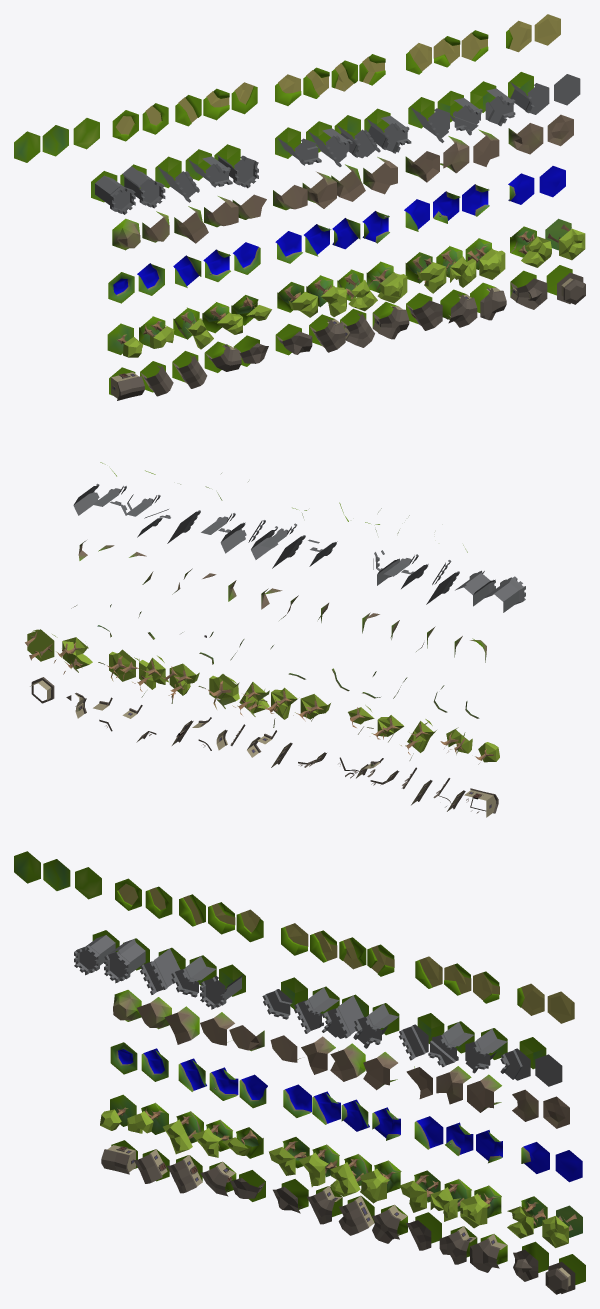
The model's file is Hex.gltf.
The picture shows the model from 3 angles, top to bottom: view 1: azimuth 30°, elevation 25°; view 2: azimuth 150°, elevation 25°; view 3: azimuth 330°, elevation 25°; orthographic projection. The views are drawn at different scales.
Visible parts, largest first — view 1: Wall_T4, Wall_Q3, Wall_N, Wall_F, Tree_F, Tree_T4, Wall_Q1, Wall_E, Wall_Q2, House_H, Tree_H, Wall_P2 (+75 smaller); view 2: Tree_T4, Wall_N, Wall_T4, Tree_H, Tree_F, Tree_Q3, Tree_Q1, Tree_Q2, Wall_E, Tree_T3, Tree_T2, Wall_T2 (+3 smaller); view 3: Wall_E, Wall_P3, Wall_T4, Wall_Q2, Wall_T3, Wall_Q3, Wall_P1, Tree_Q3, Wall_F, Wall_Q1, Tree_H, Tree_T4 (+73 smaller).
Boxes of the visible parts, box(x1,y1,x2,y2) form: Wall_T4: box(364, 108, 411, 153); Wall_Q3: box(470, 81, 515, 126); Wall_N: box(91, 171, 135, 214); Wall_F: box(508, 72, 549, 114); Tree_F: box(510, 226, 551, 267); Tree_T4: box(366, 261, 407, 303); Wall_Q1: box(408, 97, 449, 142); Wall_E: box(120, 164, 165, 208); Wall_Q2: box(437, 91, 482, 135); House_H: box(546, 265, 585, 304); Tree_H: box(545, 218, 585, 260); Wall_P2: box(185, 149, 232, 187); Tree_T4: box(198, 674, 239, 709); Wall_N: box(485, 576, 525, 612); Wall_T4: box(201, 513, 246, 553); Tree_H: box(25, 629, 57, 661); Tree_F: box(54, 637, 92, 674); Tree_Q3: box(98, 649, 139, 681); Tree_Q1: box(162, 663, 199, 703); Tree_Q2: box(128, 655, 168, 697); Wall_E: box(455, 570, 495, 606); Tree_T3: box(232, 682, 269, 716); Tree_T2: box(260, 687, 297, 727); Wall_T2: box(260, 523, 305, 568); Wall_E: box(104, 938, 149, 983); Wall_P3: box(200, 964, 245, 1009); Wall_T4: box(353, 1003, 399, 1048); Wall_Q2: box(428, 1021, 474, 1067); Wall_T3: box(322, 994, 368, 1038); Wall_Q3: box(465, 1028, 507, 1073); Wall_P1: box(140, 947, 185, 994); Tree_Q3: box(460, 1185, 501, 1228); Wall_F: box(500, 1037, 546, 1080); Wall_Q1: box(399, 1013, 444, 1060); Tree_H: box(542, 1205, 582, 1247); Tree_T4: box(360, 1160, 401, 1203).
Size of the model in its own units: 36.83 by 18.59 by 2.63.
